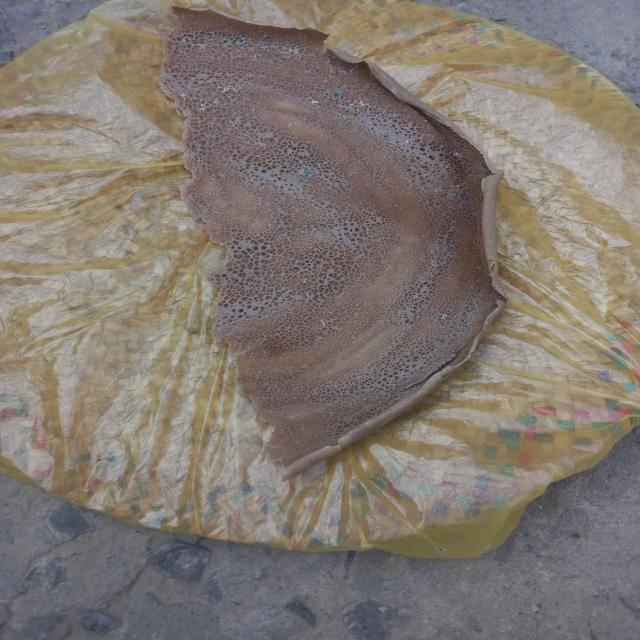injera_mold: (216, 83, 242, 95), (276, 47, 300, 59), (194, 98, 210, 112), (348, 100, 371, 109), (449, 150, 465, 158), (331, 90, 344, 99), (316, 160, 329, 168), (180, 92, 190, 102), (446, 192, 457, 200), (301, 170, 313, 176), (259, 41, 268, 49), (234, 36, 243, 43), (264, 58, 274, 64), (343, 116, 351, 123), (348, 66, 359, 71), (347, 171, 356, 177), (308, 99, 318, 104), (441, 313, 448, 320), (287, 122, 294, 128), (182, 37, 189, 43), (317, 113, 323, 119), (222, 39, 228, 43), (292, 41, 300, 44), (405, 140, 410, 144), (277, 40, 282, 44), (251, 108, 255, 112), (321, 57, 325, 60), (424, 119, 428, 122), (401, 371, 404, 374), (328, 370, 332, 372), (257, 54, 261, 56), (254, 54, 256, 58), (428, 353, 431, 355), (422, 355, 425, 357), (434, 362, 437, 364), (402, 366, 404, 368), (250, 76, 252, 78), (246, 78, 248, 80), (249, 65, 251, 67), (252, 60, 254, 62), (379, 402, 382, 403), (393, 402, 395, 403), (399, 363, 401, 364)
